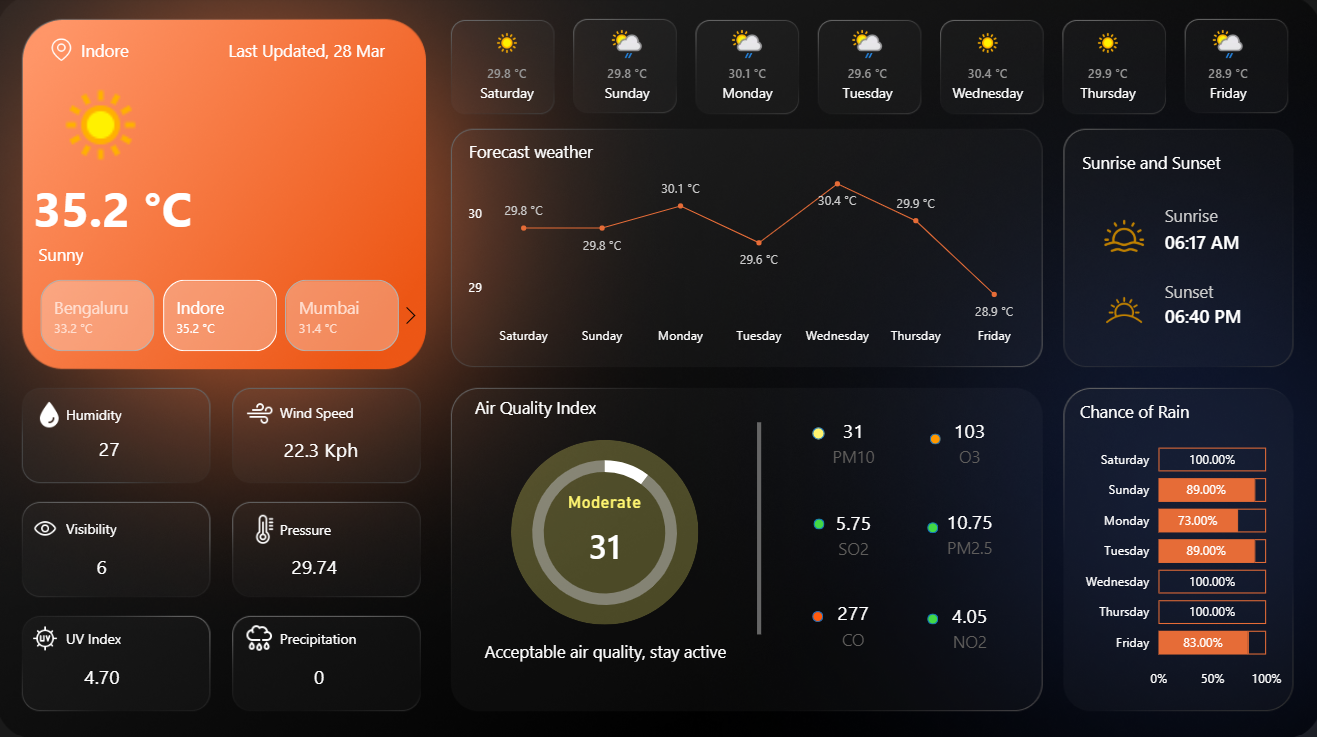

This screenshot's page, from the dashboard's own definition file:
{"tool":"powerbi","page":{"name":"Live Weather Report","canvas":[1280,720],"ordinal":0},"visuals":[{"type":"advancedSlicerVisual","fields":{"Label":["MesureTable.Curr_Temp_C"],"Values":["Locations.location.name"]},"box":[18.4,269.2,397.6,79.5],"z":0},{"type":"shape","box":[36.6,139.1,290,128.9],"z":1000},{"type":"shape","box":[41.6,230.4,345.6,36.8],"z":2000},{"type":"shape","box":[81.6,36.4,104.2,31.4],"z":3000},{"type":"shape","box":[225,36.4,166.9,31.4],"z":4000},{"type":"image","box":[51.4,36.7,22,30.9],"z":5000},{"type":"cardVisual","fields":{"Data":["Min(Current.current.condition.icon)"]},"box":[41.6,67.2,121.6,113.6],"z":6000},{"type":"shape","box":[67.4,391,96.7,26.4],"z":7000},{"type":"shape","box":[67.4,497.9,98.1,30.8],"z":8000},{"type":"shape","box":[273.9,386.6,98.1,30.8],"z":9000},{"type":"shape","box":[273.9,499.4,96.7,30.8],"z":10000},{"type":"shape","box":[67.4,604.9,98.1,30.8],"z":11000},{"type":"shape","box":[273.9,604.9,96.7,30.8],"z":12000},{"type":"image","box":[35.1,391,32.2,26.4],"z":13000},{"type":"image","box":[35.1,497.9,24.9,30.8],"z":14000},{"type":"image","box":[35.1,604.9,24.9,30.8],"z":15000},{"type":"image","box":[238.7,389.6,30.8,26.4],"z":16000},{"type":"image","box":[243.1,500.9,30.8,27.8],"z":17000},{"type":"image","box":[238.7,604.9,30.8,30.8],"z":18000},{"type":"cardVisual","fields":{"Data":["Sum(Current.current.humidity)"]},"box":[62.7,402.2,93.3,67.3],"z":19000},{"type":"cardVisual","fields":{"Data":["MesureTable.WindSpeed"]},"box":[216.8,402.7,193.3,67.4],"z":20000},{"type":"cardVisual","fields":{"Data":["Sum(Current.current.vis_km)"]},"box":[49.8,515.5,105.4,67.4],"z":21000},{"type":"cardVisual","fields":{"Data":["Sum(Current.current.pressure_in)"]},"box":[238.7,515.5,137.7,67.4],"z":22000},{"type":"cardVisual","fields":{"Data":["Sum(Current.current.uv)"]},"box":[33.7,621,137.7,67.4],"z":23000},{"type":"cardVisual","fields":{"Data":["Sum(Current.current.precip_mm)"]},"box":[253.9,620.9,117.8,67.3],"z":24000},{"type":"advancedSlicerVisual","fields":{"Values":["Forcast_Day.Day_Name"]},"box":[439.4,22,807,92.3],"z":25000},{"type":"lineChart","title":"Forecast weather","fields":{"Category":["Forcast_Day.Day_Name"],"Y":["Sum(Forcast_Day.forecast.forecastday.day.avgtemp_c)"]},"box":[451.1,139.1,547.7,208],"z":26000},{"type":"shape","box":[1048.6,139.1,156.7,42.5],"z":27000},{"type":"shape","box":[1127.7,218,105.4,36.6],"z":28000},{"type":"shape","box":[1127.7,290,105.4,36.6],"z":29000},{"type":"shape","box":[1127.7,193.3,105.4,36.6],"z":30000},{"type":"shape","box":[1127.7,266.5,105.4,36.6],"z":31000},{"type":"image","box":[1061.8,212.4,54.2,38.1],"z":32000},{"type":"image","box":[1061.6,279.8,54,46.4],"z":33000},{"type":"hundredPercentStackedBarChart","title":"Chance of Rain","fields":{"Category":["Forcast_Day.Day_Name"],"Y":["Sum(Forcast_Day.forecast.forecastday.day.daily_chance_of_rain)","MesureTable.Left_value_rain"]},"box":[1041.4,390,204.9,287.5],"z":34000},{"type":"cardVisual","fields":{"Data":["Sum(Current.current.air_quality.pm10)"]},"box":[786.8,391.5,82.6,78],"z":35000},{"type":"cardVisual","fields":{"Data":["Sum(Current.current.air_quality.o3)"]},"box":[899.2,391.5,82.6,78],"z":36000},{"type":"cardVisual","fields":{"Data":["Sum(Current.current.air_quality.pm2_5)"]},"box":[899.2,480.2,82.6,78],"z":37000},{"type":"cardVisual","fields":{"Data":["Sum(Current.current.air_quality.so2)"]},"box":[786.8,481,82.6,78],"z":38000},{"type":"cardVisual","fields":{"Data":["Sum(Current.current.air_quality.co)"]},"box":[779.9,570.4,96.3,73.4],"z":39000},{"type":"cardVisual","fields":{"Data":["Sum(Current.current.air_quality.no2)"]},"box":[899.2,570.4,82.6,78],"z":40000},{"type":"shape","box":[787.6,416,12,12],"z":41000},{"type":"shape","box":[787.6,593,10.7,10.7],"z":42000},{"type":"shape","box":[789.1,504.7,10.7,10.7],"z":43000},{"type":"shape","box":[901,422.1,10.7,10.7],"z":44000},{"type":"shape","box":[899.2,507.7,10.7,10.7],"z":45000},{"type":"shape","box":[899.2,596.4,10.7,10.7],"z":46000},{"type":"shape","box":[694.3,411.4,85.6,204.9],"z":47000},{"type":"shape","box":[461.8,376.2,157.5,41.3],"z":48000},{"type":"shape","box":[497.1,428.3,181,178.6],"z":49000},{"type":"donutChart","fields":{"Y":["Sum(Current.current.air_quality.pm10)","MesureTable.Left_value_PM10"]},"box":[462.1,425.9,250.9,184.6],"z":50000},{"type":"cardVisual","fields":{"Data":["Sum(Current.current.air_quality.pm10)"]},"box":[520,477.8,135.1,84.5],"z":51000},{"type":"shape","box":[451.1,610,273.7,42.8],"z":52000}]}

Visuals, with their boxes in screenshot pixels (x1, y1, x2, y2), scaled from the page's 1280x720 canvas onto the 1317x737 screenshot:
advancedSlicerVisual - MesureTable.Curr_Temp_C x Locations.location.name: x1=19 y1=276 x2=428 y2=357
shape: x1=38 y1=142 x2=336 y2=274
shape: x1=43 y1=236 x2=398 y2=274
shape: x1=84 y1=37 x2=191 y2=69
shape: x1=232 y1=37 x2=403 y2=69
image: x1=53 y1=38 x2=76 y2=69
cardVisual - Min(Current.current.condition.icon): x1=43 y1=69 x2=168 y2=185
shape: x1=69 y1=400 x2=169 y2=427
shape: x1=69 y1=510 x2=170 y2=541
shape: x1=282 y1=396 x2=383 y2=427
shape: x1=282 y1=511 x2=381 y2=543
shape: x1=69 y1=619 x2=170 y2=651
shape: x1=282 y1=619 x2=381 y2=651
image: x1=36 y1=400 x2=69 y2=427
image: x1=36 y1=510 x2=62 y2=541
image: x1=36 y1=619 x2=62 y2=651
image: x1=246 y1=399 x2=277 y2=426
image: x1=250 y1=513 x2=282 y2=541
image: x1=246 y1=619 x2=277 y2=651
cardVisual - Sum(Current.current.humidity): x1=65 y1=412 x2=161 y2=481
cardVisual - MesureTable.WindSpeed: x1=223 y1=412 x2=422 y2=481
cardVisual - Sum(Current.current.vis_km): x1=51 y1=528 x2=160 y2=597
cardVisual - Sum(Current.current.pressure_in): x1=246 y1=528 x2=387 y2=597
cardVisual - Sum(Current.current.uv): x1=35 y1=636 x2=176 y2=705
cardVisual - Sum(Current.current.precip_mm): x1=261 y1=636 x2=382 y2=704
advancedSlicerVisual - Forcast_Day.Day_Name: x1=452 y1=23 x2=1282 y2=117
"Forecast weather" lineChart: x1=464 y1=142 x2=1028 y2=355
shape: x1=1079 y1=142 x2=1240 y2=186
shape: x1=1160 y1=223 x2=1269 y2=261
shape: x1=1160 y1=297 x2=1269 y2=334
shape: x1=1160 y1=198 x2=1269 y2=235
shape: x1=1160 y1=273 x2=1269 y2=310
image: x1=1092 y1=217 x2=1148 y2=256
image: x1=1092 y1=286 x2=1148 y2=334
"Chance of Rain" hundredPercentStackedBarChart: x1=1072 y1=399 x2=1282 y2=693
cardVisual - Sum(Current.current.air_quality.pm10): x1=810 y1=401 x2=895 y2=481
cardVisual - Sum(Current.current.air_quality.o3): x1=925 y1=401 x2=1010 y2=481
cardVisual - Sum(Current.current.air_quality.pm2_5): x1=925 y1=492 x2=1010 y2=571
cardVisual - Sum(Current.current.air_quality.so2): x1=810 y1=492 x2=895 y2=572
cardVisual - Sum(Current.current.air_quality.co): x1=802 y1=584 x2=902 y2=659
cardVisual - Sum(Current.current.air_quality.no2): x1=925 y1=584 x2=1010 y2=664
shape: x1=810 y1=426 x2=823 y2=438
shape: x1=810 y1=607 x2=821 y2=618
shape: x1=812 y1=517 x2=823 y2=528
shape: x1=927 y1=432 x2=938 y2=443
shape: x1=925 y1=520 x2=936 y2=531
shape: x1=925 y1=610 x2=936 y2=621
shape: x1=714 y1=421 x2=802 y2=631
shape: x1=475 y1=385 x2=637 y2=427
shape: x1=511 y1=438 x2=698 y2=621
donutChart - Sum(Current.current.air_quality.pm10) x MesureTable.Left_value_PM10: x1=475 y1=436 x2=734 y2=625
cardVisual - Sum(Current.current.air_quality.pm10): x1=535 y1=489 x2=674 y2=576
shape: x1=464 y1=624 x2=746 y2=668
